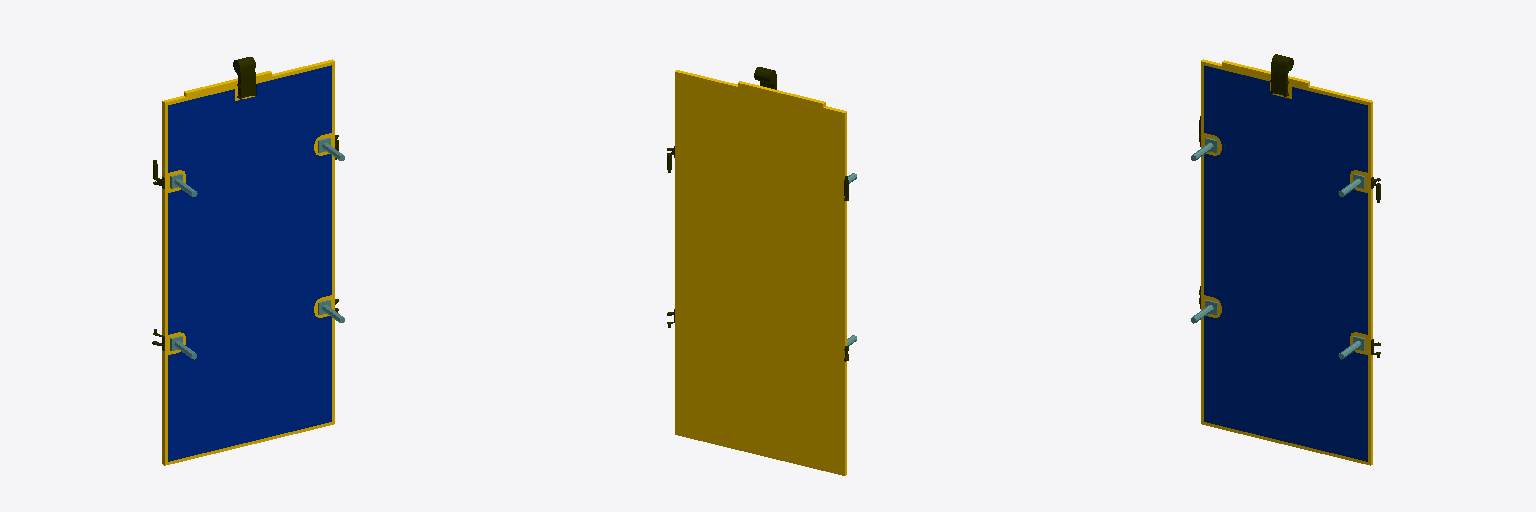
The model's file is LRO_SAS_Center_Panel.obj.
3 renders of one model, left to right at view 1: azimuth 30°, elevation 25°; view 2: azimuth 150°, elevation 25°; view 3: azimuth 330°, elevation 25°, orthographic.
Visible parts, largest first — view 1: SAS_Center_Panel; view 2: SAS_Center_Panel; view 3: SAS_Center_Panel.
Part boxes in pixels (x1,y1,x2,y2): SAS_Center_Panel: (152, 57, 344, 465); SAS_Center_Panel: (667, 67, 856, 475); SAS_Center_Panel: (1191, 54, 1380, 465).
Size of the model in its own units: 1.54 by 3.1 by 0.3645.